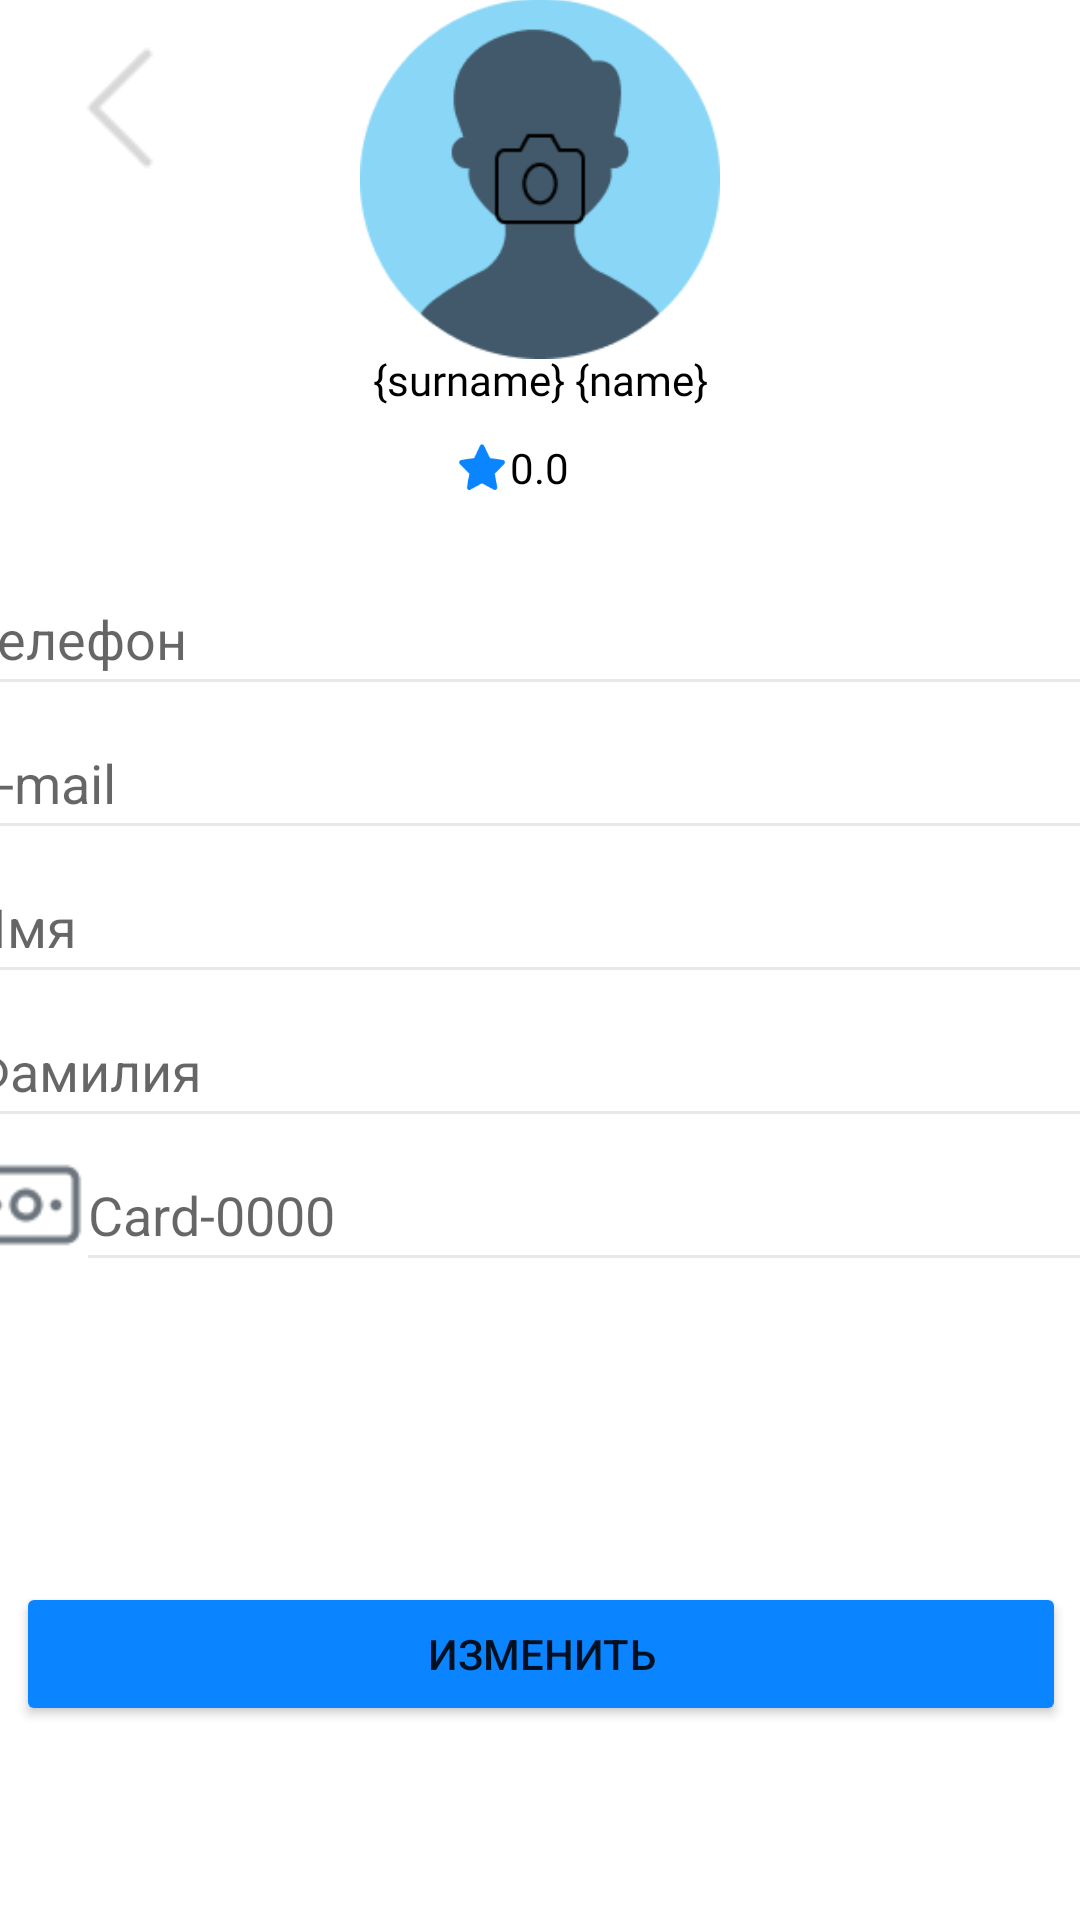

Icons on this 1080×1920 Android screen, each with its box as bbox=(x1, y1, x2, y2):
profile man: bbox=(360, 0, 720, 359)
star: bbox=(459, 444, 505, 490)
